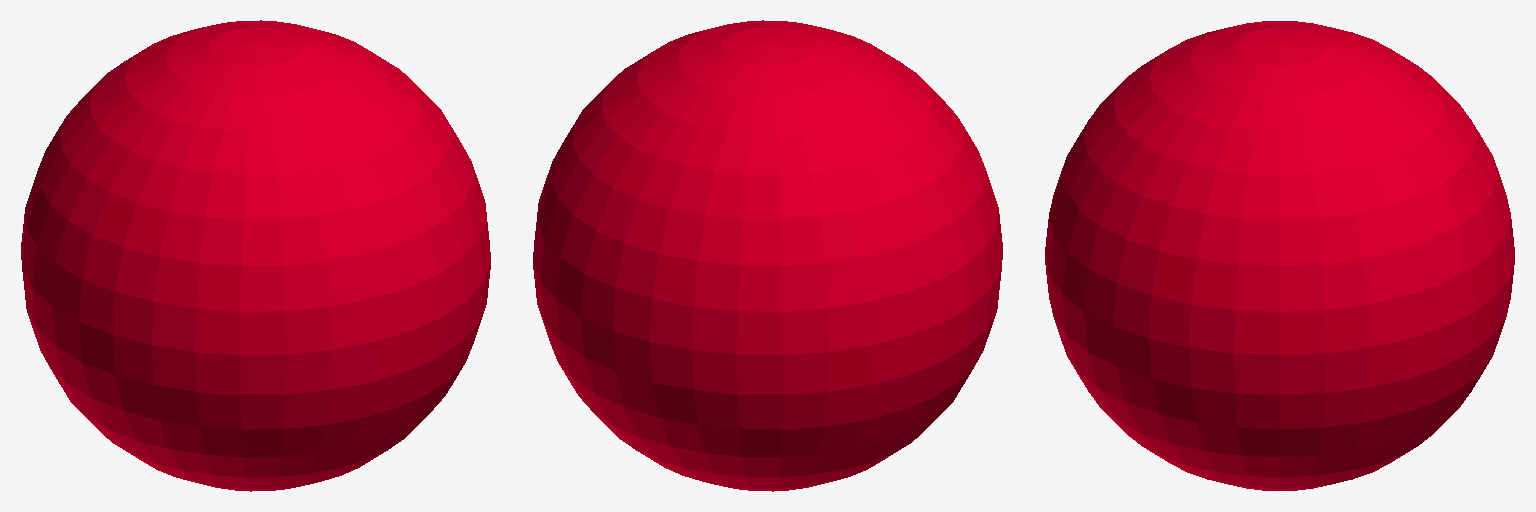
robot.urdf — universal_robot:
<?xml version="1.0"?>
<!--FOR GRIPPER, THERE IS NO LINK INERTIA DEFINED HERE-->
<robot name="universal_robot">

  <!-- Digit -->
  <link
    name="digit_body_link">
    <inertial>
      <origin
        xyz="0.00443338071044421 -0.0140914049333968 4.96453152977634E-09+0.035"
        rpy="0 0 0" />
      <mass
        value="0.0077837104153161" />
      <inertia
        ixx="7.77176839696665E-07"
        ixy="-5.52554519832781E-09"
        ixz="-2.21347841658254E-13"
        iyy="1.5788930001559E-06"
        iyz="-8.96409493368731E-14"
        izz="1.05613167218354E-06" />
    </inertial>
    <visual>
      <origin
        xyz="0 0 0.035"
        rpy="0 0 0" />
      <geometry>
        <mesh filename="body/digit_body.stl" />
      </geometry>
      <material name="whitish">
       <color rgba="0.8 0.8 0.8 1.0"/>
     </material>
    </visual>
    <collision>
      <origin
        xyz="0 0 0.035"
        rpy="0 0 0" />
      <geometry>
        <mesh filename="body/digit_body.stl" />
      </geometry>
    </collision>
  </link>

  <link name="digit_tip_link">
    <inertial>
      <origin
        xyz="-2.15568578500849E-07 0.00554133274527847 -0.00576051345741577-0.035"
        rpy="0 0 0" />
      <mass
        value="0.00130411151086353" />
      <inertia
        ixx="5.48284140746448E-08"
        ixy="-4.02703926962539E-12"
        ixz="-5.29135712007007E-14"
        iyy="3.03790231207661E-08"
        iyz="-1.56642204167579E-10"
        izz="8.26200689636922E-08" />
    </inertial>
    <visual>
      <origin
        xyz="0 0 -0.035"
        rpy="0 0 0" />
      <geometry>
        <mesh
          filename="tip/digit_skin.stl" scale="1.05 1.05 1.0"/>
      </geometry>
      <material name="black">
         <color rgba="0.0 0.0 0.0 1.0"/>
     </material>
    </visual>
    <collision>
      <origin
        xyz="0 0 -0.035"
        rpy="0 0 0" />
      <geometry>
        <mesh filename="tip/digit_core.stl" scale="1.05 1.05 1.0"/>
      </geometry>
    </collision>
  </link>

  <joint name="digit_tip_to_body" type="fixed">
    <origin
      xyz="-0.00151521951809463 -1.36251105150219E-05 -0.00415"
      rpy="-3.14159265358979 0 1.5707963267949" />
    <parent link="digit_body_link" />
    <child link="digit_tip_link" />
    <axis xyz="0 0 0" />
  </joint>

  <!-- TCP -->
  <link name="tcp_link">
    <visual>
      <origin rpy="0 0 0" xyz="0 0 0"/>
      <geometry>
        <sphere radius="0.001"/>
      </geometry>
      <material name="TransparentRed">
        <color rgba="0.9 0 0.2 0.5"/>
      </material>
    </visual>
    <inertial>
      <mass value="0.0"/>
      <origin rpy="0.0 0.0 1.57" xyz="0.0 0.0 0.0"/>
      <inertia ixx="1.0" ixy="0.0" ixz="0.0" iyy="1.0" iyz="0.0" izz="1.0"/>
    </inertial>
  </link>

  <joint name="tcp_joint" type="fixed">
    <parent link="digit_body_link"/>
    <child link="tcp_link"/>
    <origin rpy="0 0 0" xyz="0.0007 0.0 0.040"/>
  </joint>

</robot>

--- Facts derived from the render (not from the file) ---
Views: 3 orthographic renders of the robot side by side, from view 1: azimuth 30°, elevation 25°; view 2: azimuth 150°, elevation 25°; view 3: azimuth 270°, elevation 25°.
Model universal_robot with 3 links and 2 joints (2 fixed), rooted at digit_body_link, posed all joints at 0.
Visible links, largest first — view 1: tcp_link; view 2: tcp_link; view 3: tcp_link.
Link boxes in pixels (bbox=[...]): tcp_link: bbox=[21, 20, 490, 491]; tcp_link: bbox=[533, 20, 1002, 491]; tcp_link: bbox=[1045, 21, 1514, 490].
Bounding box of the posed robot: 0.002 × 0.002 × 0.002 m (x, y, z).
Meshes: 2 distinct files referenced, 0 mesh visuals loaded (none loaded); not drawn: 2 (reference not matched to a file when rendering).